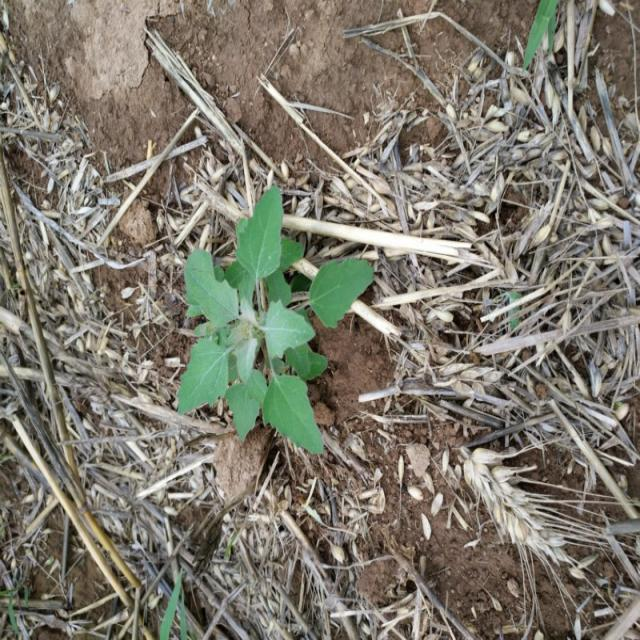goosefoots: (172, 192, 370, 465)
